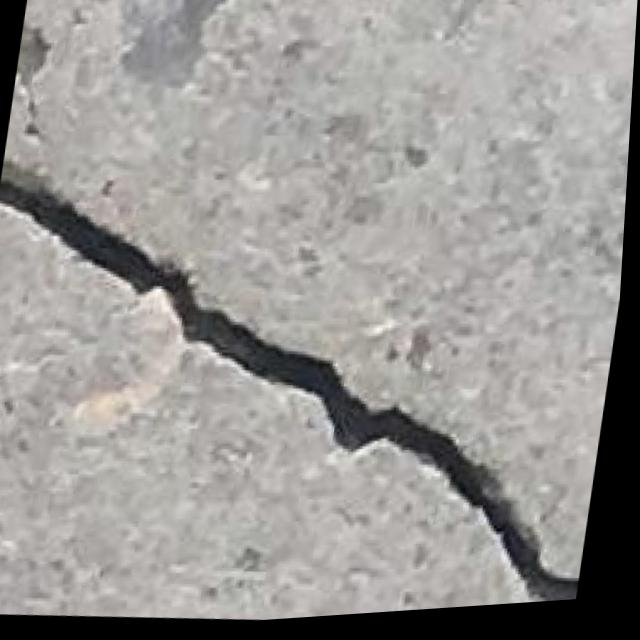Crack: (0, 105, 634, 640)
